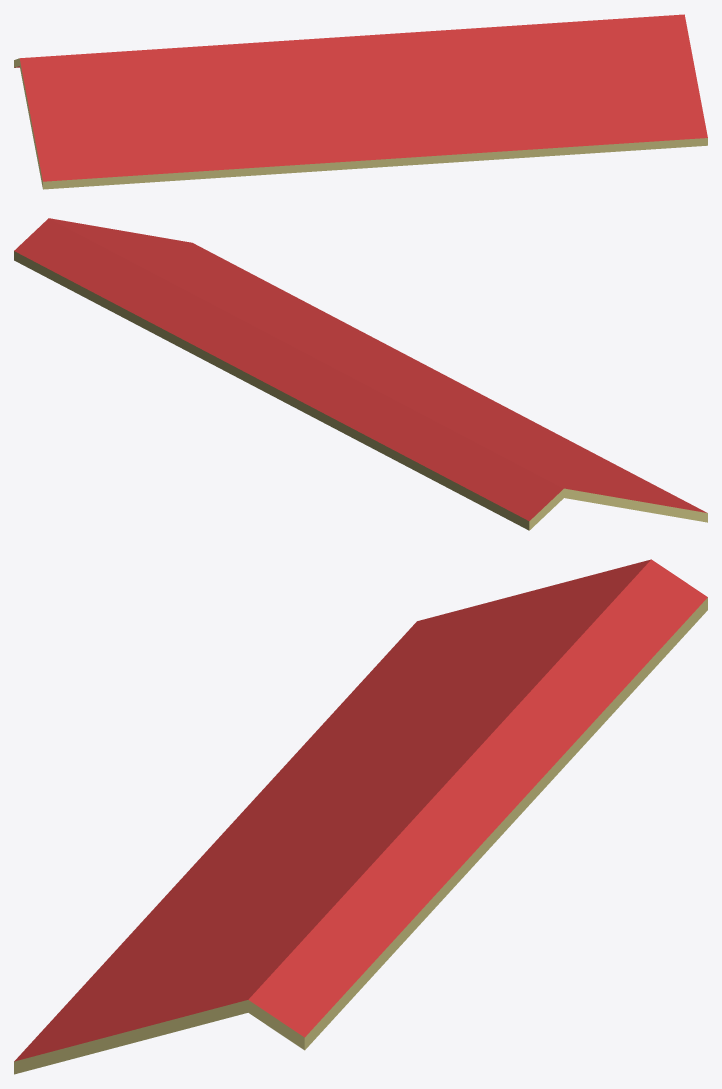
3 renders of one model, top to bottom at view 1: azimuth 30°, elevation 25°; view 2: azimuth 150°, elevation 25°; view 3: azimuth 270°, elevation 25°, orthographic. The views are drawn at different scales.
Bounding box in the file's own units: 8.1 × 4.87 × 0.875.
